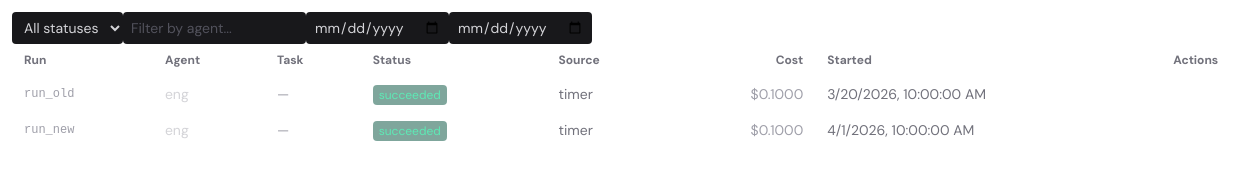
RunInspector › filters runs by end date
Expected: the text "run_old" is shown, [12, 76, 153, 112]
Expected: the text "run_new" is shown, [12, 112, 153, 148]
Step 1. Type "2026-03-25" into the date field named "End date" → (520, 28), box [449, 12, 592, 44]
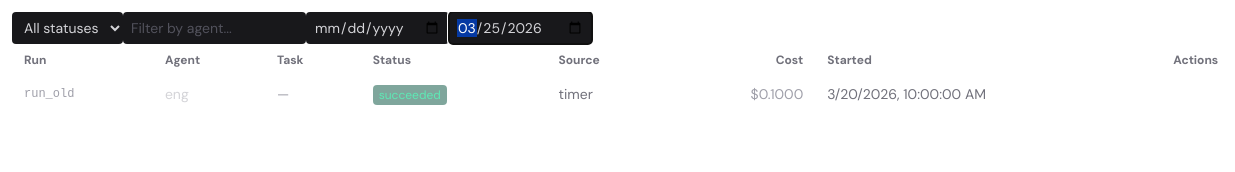
Expected: the text "run_old" is shown, [12, 76, 153, 112]
Expected: the text "run_new" is gone
